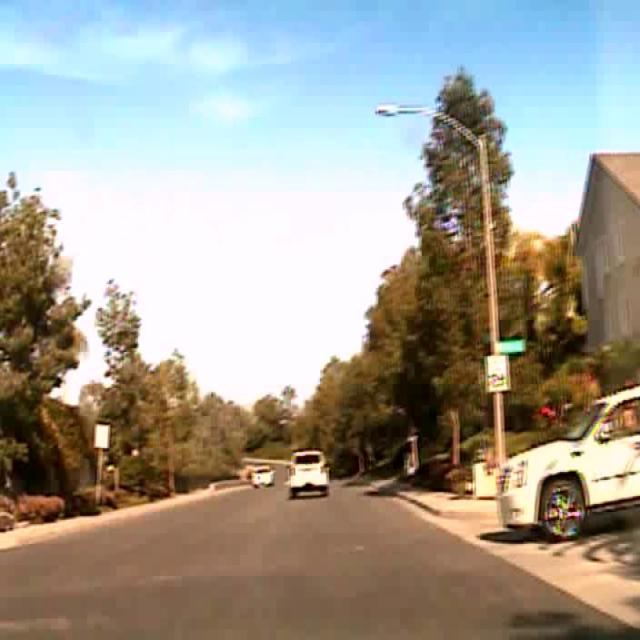speedLimit25: (486, 354, 509, 394)
